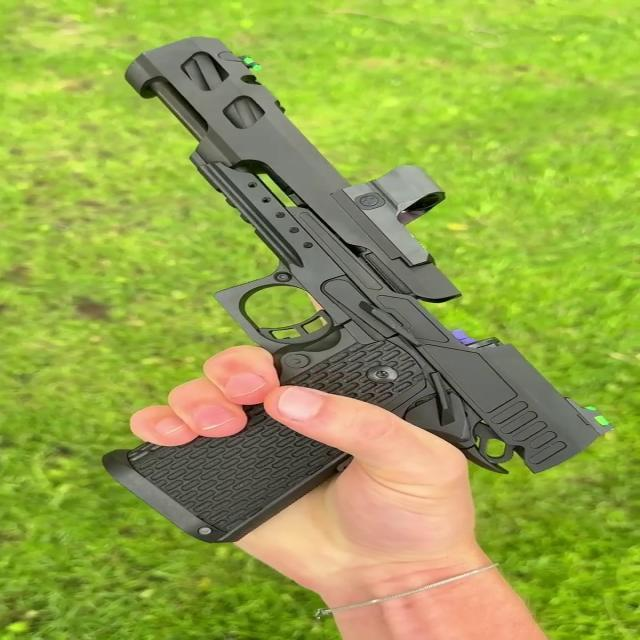Handgun: (69, 31, 620, 551)
